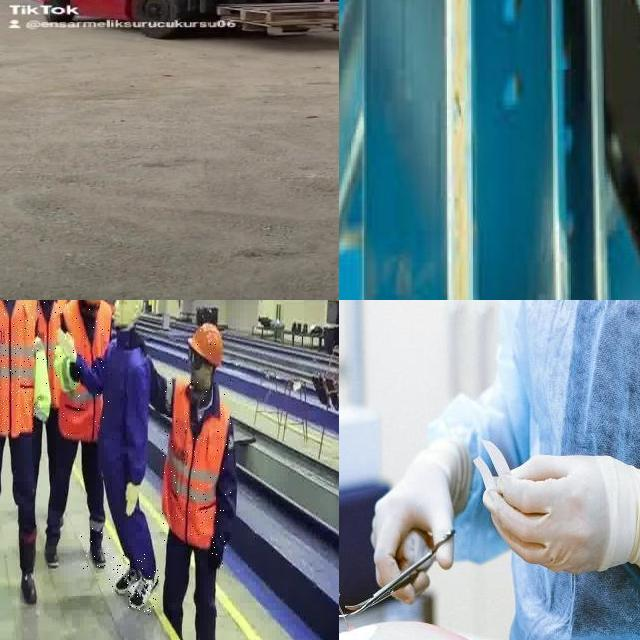BOOTS: (128, 565, 160, 615), (80, 528, 113, 574), (108, 554, 146, 592)
Glove: (370, 436, 476, 606), (482, 450, 618, 580)
HELMET: (186, 323, 224, 363)
VEST: (162, 378, 231, 550), (61, 300, 113, 443), (0, 300, 37, 436), (36, 300, 66, 406)
